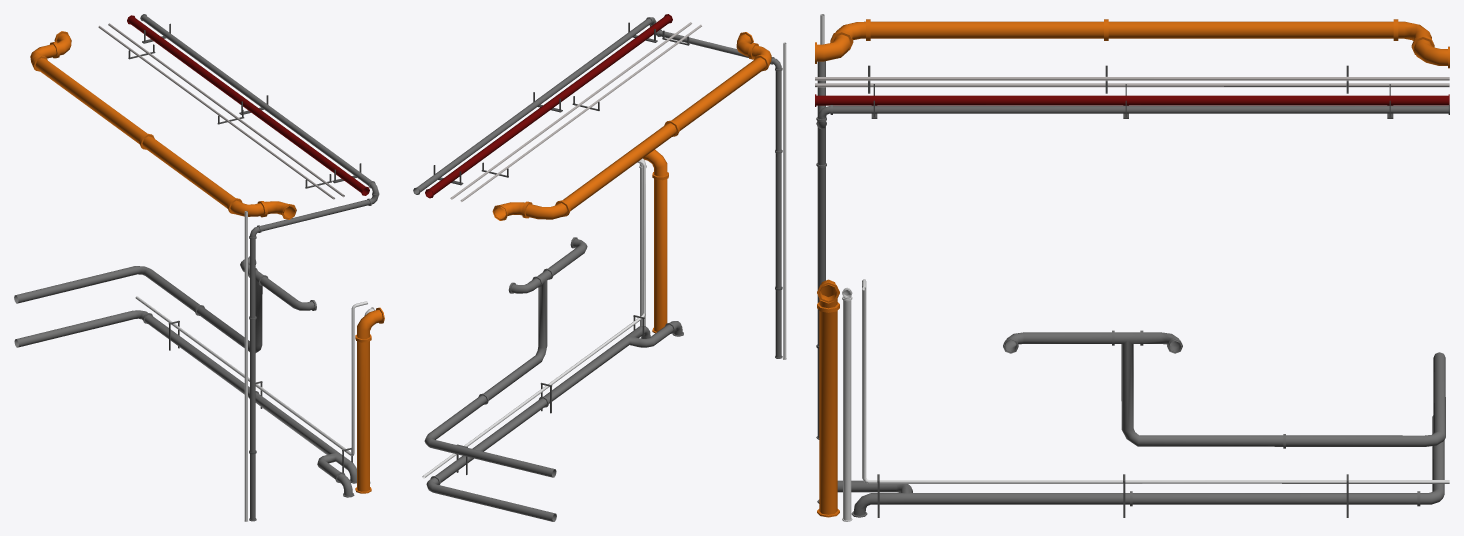
Rendered from SM_H_Building_Tide_Corridor_04F_ATLAS.fbx.
3 views of the same model, side by side, from view 1: azimuth 30°, elevation 25°; view 2: azimuth 150°, elevation 25°; view 3: azimuth 270°, elevation 25° (orthographic). The views are drawn at different scales.
Parts seen in each view (by area): view 1: SM_H_Building_Tide_Corridor_04F_ATLAS; view 2: SM_H_Building_Tide_Corridor_04F_ATLAS; view 3: SM_H_Building_Tide_Corridor_04F_ATLAS.
Boxes of the visible parts, x1,y1,x2,y2 form: SM_H_Building_Tide_Corridor_04F_ATLAS: (14,14,384,521); SM_H_Building_Tide_Corridor_04F_ATLAS: (413,14,786,521); SM_H_Building_Tide_Corridor_04F_ATLAS: (815,14,1449,521).
Bounding box in the file's own units: 520 × 1514 × 1108.
